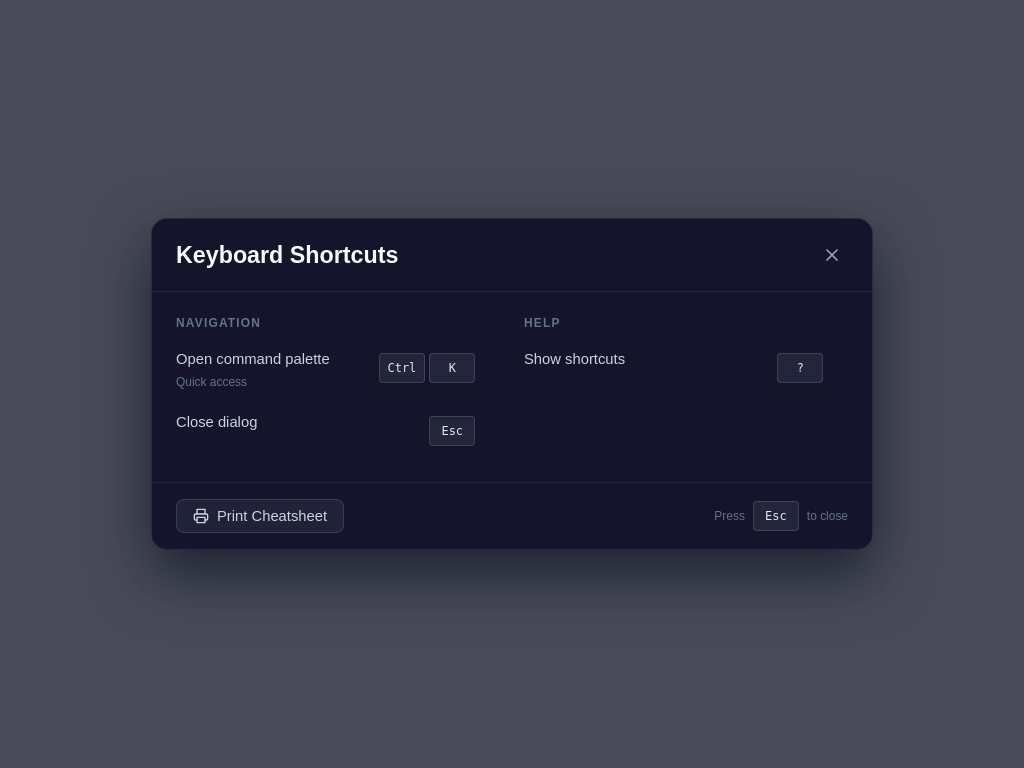
it: KeyboardShortcutsOverlay › detects conflict with other custom shortcut
This screenshot has width=1024, height=768.
Click the button with aria-label "Edit shortcut for Close dialog".
click(462, 431)  # box [424, 413, 500, 449]
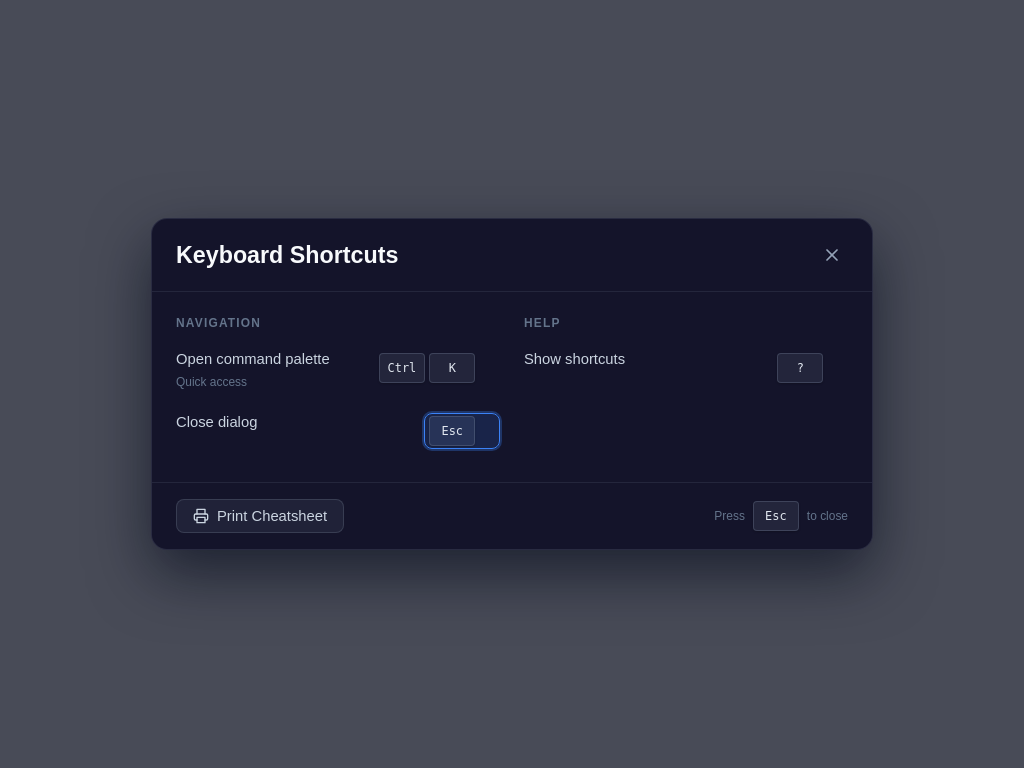
// Press mod+K which conflicts with "Open command palette"
Press k
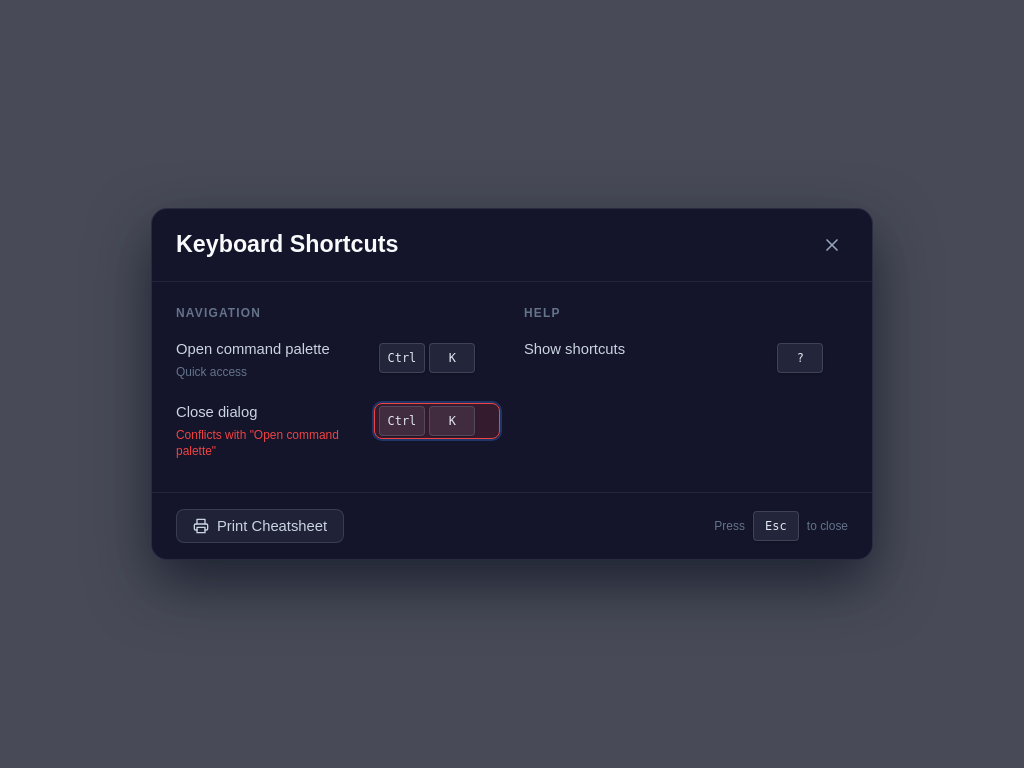
Check: the text "Conflicts with \"Open command palette\"" is shown, box [176, 427, 358, 459]
